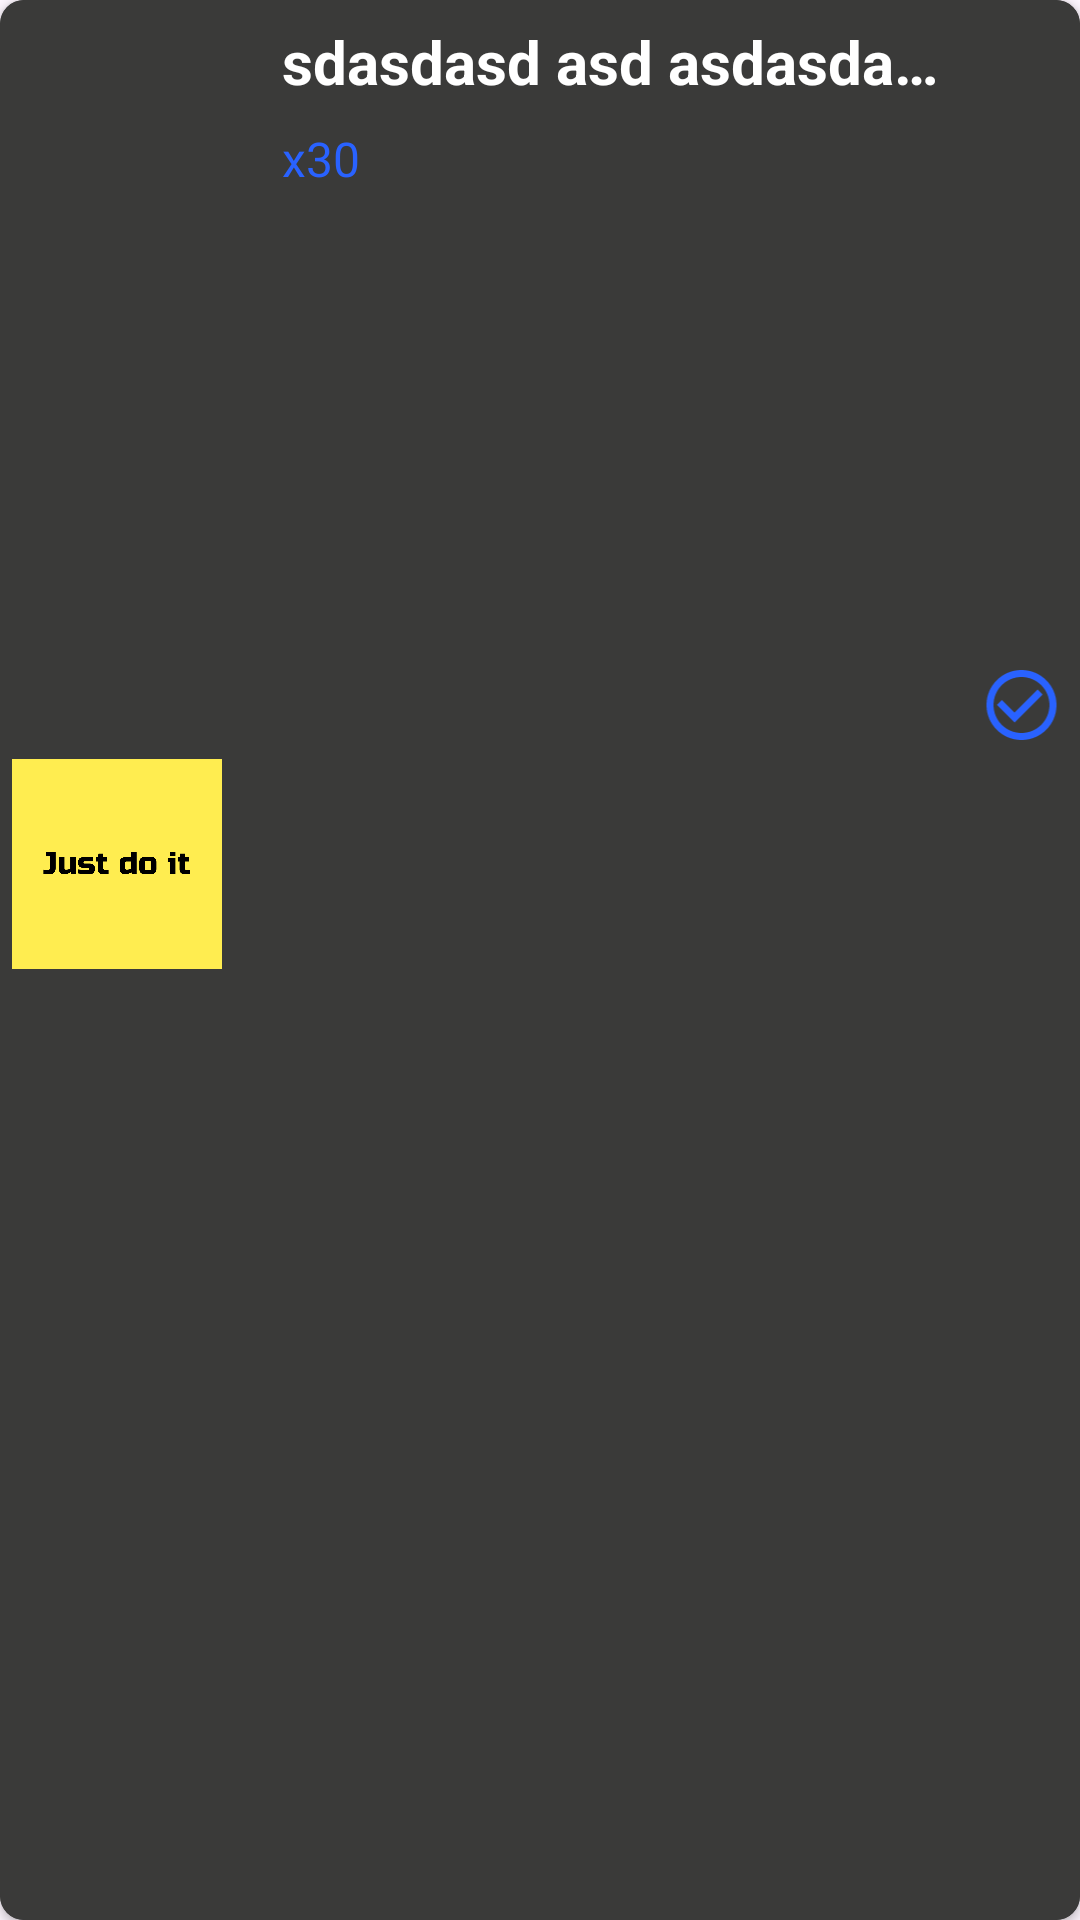

Screen size 1080x1920. Icon name, then its center in pixels as (x,y):
check box: (1021,705)
